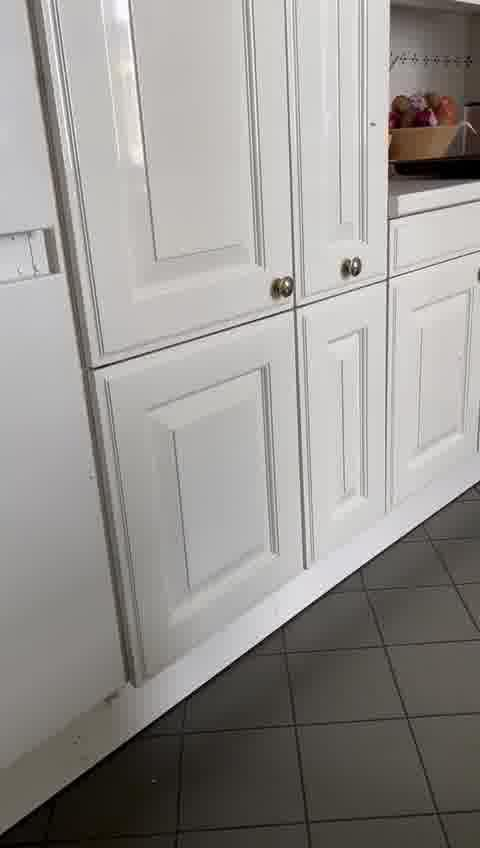cabinet_door: (51, 0, 298, 344), (303, 0, 388, 299)
handle: (266, 271, 298, 309), (340, 259, 361, 288)
